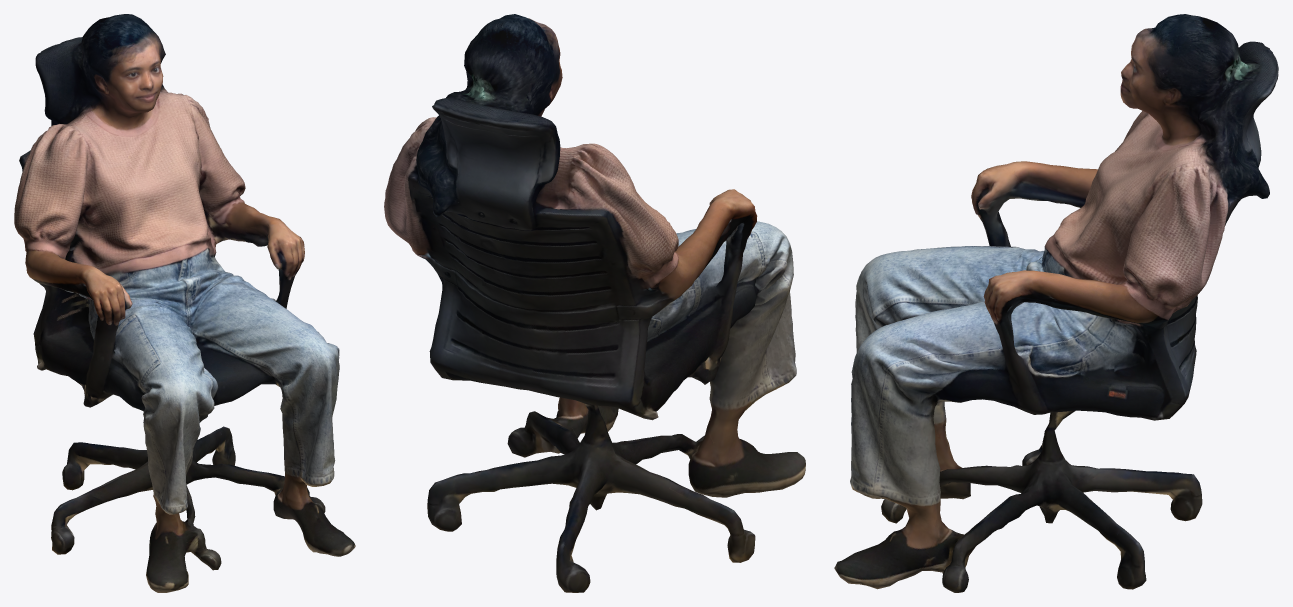
The model's file is 3DModel.obj.
3 renders of one model, left to right at view 1: azimuth 30°, elevation 25°; view 2: azimuth 150°, elevation 25°; view 3: azimuth 270°, elevation 25°, orthographic. The views are drawn at different scales.
Visible parts, largest first — view 1: submesh; view 2: submesh; view 3: submesh.
Boxes of the visible parts, box(x1,y1,x2,y2) form: submesh: box(14, 14, 355, 592); submesh: box(384, 14, 805, 592); submesh: box(834, 14, 1278, 592).
Bounding box in the file's own units: 0.6549 × 1.2 × 0.9089.
